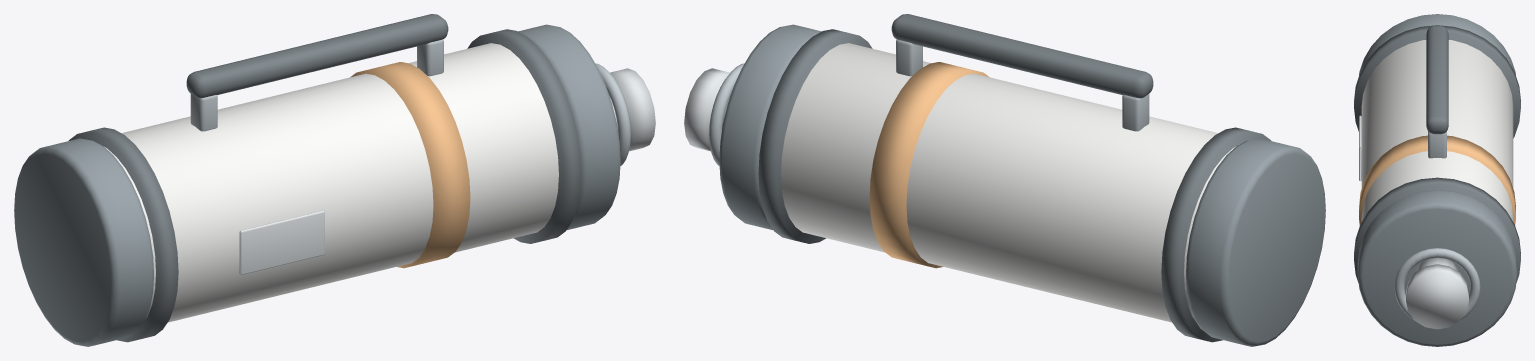
The model's file is o2_cartridge.glb.
3 renders of one model, left to right at view 1: azimuth 30°, elevation 25°; view 2: azimuth 150°, elevation 25°; view 3: azimuth 270°, elevation 25°, orthographic. The views are drawn at different scales.
Parts seen in each view (by area): view 1: cartridge_body_white, end_cap_recess_graphite, end_cap_recess_graphite.001, band_orange, carry_grip_seal_rubber, bumper_seal_rubber.001, bumper_seal_rubber, id_plate_trim_steel, quick_connect_trim_steel, valve_guard_frame_dark_alloy, handle_post_frame_dark_alloy, handle_post_frame_dark_alloy.001; view 2: cartridge_body_white, end_cap_recess_graphite, end_cap_recess_graphite.001, band_orange, carry_grip_seal_rubber, bumper_seal_rubber.001, bumper_seal_rubber, quick_connect_trim_steel, valve_guard_frame_dark_alloy, handle_post_frame_dark_alloy, handle_post_frame_dark_alloy.001; view 3: cartridge_body_white, end_cap_recess_graphite.001, quick_connect_trim_steel, bumper_seal_rubber, bumper_seal_rubber.001, band_orange, carry_grip_seal_rubber, valve_guard_frame_dark_alloy, end_cap_recess_graphite, handle_post_frame_dark_alloy.001, valve_body_trim_steel, id_plate_trim_steel.
Boxes of the visible parts, x1,y1,x2,y2 form: cartridge_body_white: (104, 43, 558, 322); end_cap_recess_graphite: (14, 138, 153, 346); end_cap_recess_graphite.001: (518, 24, 620, 229); band_orange: (350, 62, 470, 268); carry_grip_seal_rubber: (186, 14, 448, 98); bumper_seal_rubber.001: (467, 29, 581, 243); bumper_seal_rubber: (68, 127, 178, 342); id_plate_trim_steel: (239, 210, 324, 275); quick_connect_trim_steel: (610, 68, 655, 151); valve_guard_frame_dark_alloy: (595, 63, 630, 165); handle_post_frame_dark_alloy: (190, 94, 217, 131); handle_post_frame_dark_alloy.001: (417, 39, 443, 76); cartridge_body_white: (781, 43, 1235, 322); end_cap_recess_graphite: (1186, 138, 1325, 346); end_cap_recess_graphite.001: (719, 24, 821, 229); band_orange: (869, 62, 989, 268); carry_grip_seal_rubber: (891, 14, 1153, 98); bumper_seal_rubber.001: (758, 29, 872, 243); bumper_seal_rubber: (1161, 127, 1271, 342); quick_connect_trim_steel: (684, 68, 729, 151); valve_guard_frame_dark_alloy: (709, 63, 744, 165); handle_post_frame_dark_alloy: (1122, 94, 1149, 131); handle_post_frame_dark_alloy.001: (896, 39, 922, 76); cartridge_body_white: (1361, 40, 1513, 221); end_cap_recess_graphite.001: (1357, 190, 1517, 346); quick_connect_trim_steel: (1406, 264, 1468, 329); bumper_seal_rubber: (1354, 25, 1520, 138); bumper_seal_rubber.001: (1354, 177, 1520, 282); band_orange: (1359, 135, 1515, 225); carry_grip_seal_rubber: (1426, 26, 1448, 134); valve_guard_frame_dark_alloy: (1394, 248, 1480, 320); end_cap_recess_graphite: (1359, 14, 1515, 75); handle_post_frame_dark_alloy.001: (1428, 131, 1446, 158); valve_body_trim_steel: (1416, 258, 1458, 270); id_plate_trim_steel: (1359, 115, 1361, 181).
Bounding box in the file's own units: 0.81 × 0.322 × 0.264.
